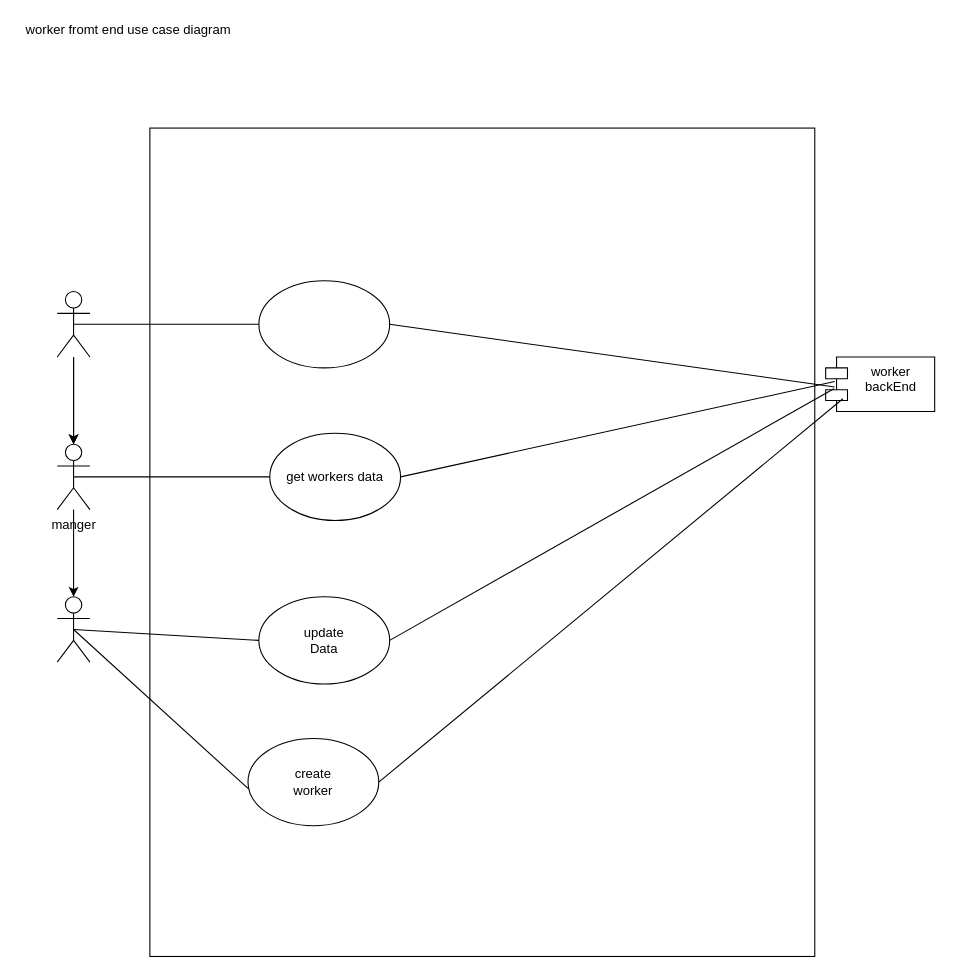
This 954x976 diagram has some shape labels left out. The shapes that lost their labels are listed below. From the top down, each one's centre as x and y in pixels, then its label:
At [73,323]: "empliye".
At [324,324]: "get person data".
At [73,629]: "HR".
